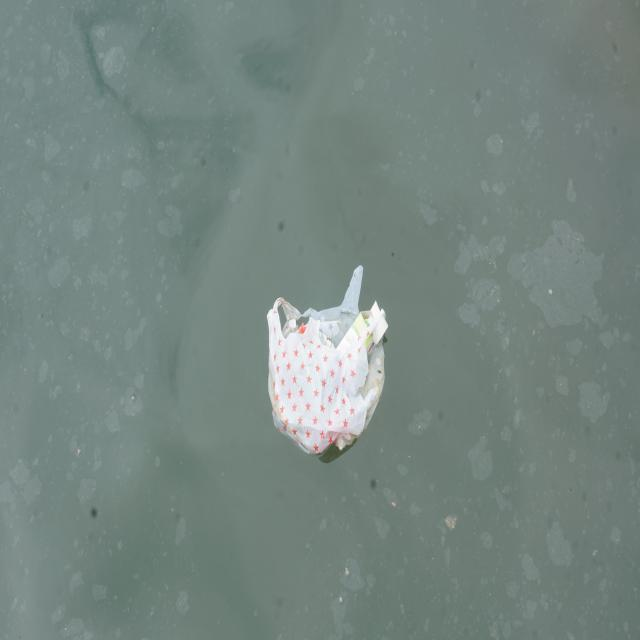Kantong Plastik: (266, 264, 390, 469)
